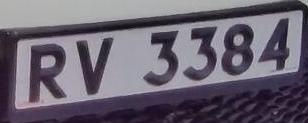3: (138, 24, 185, 92), (181, 21, 221, 85)
4: (258, 15, 296, 76)
8: (218, 19, 258, 82)
R: (22, 38, 73, 104)
V: (69, 32, 119, 100)
